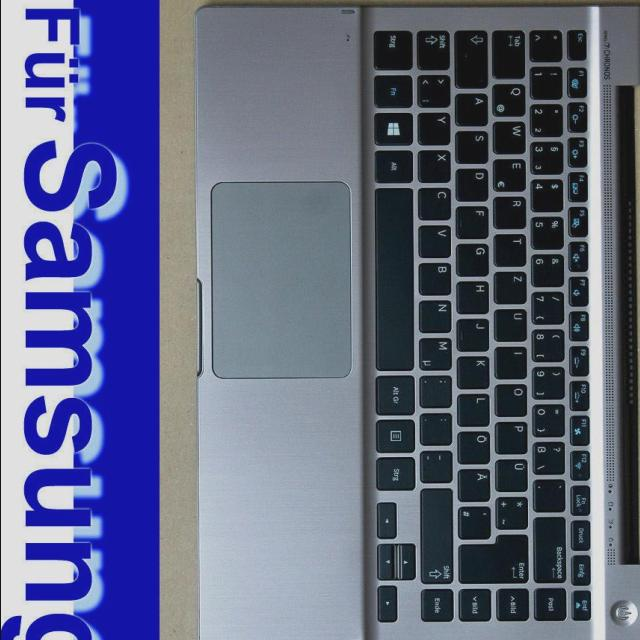0: (534, 401, 568, 436)
1: (532, 64, 565, 98)
2: (532, 102, 565, 136)
3: (533, 139, 566, 173)
4: (533, 177, 566, 210)
5: (533, 214, 565, 248)
6: (532, 251, 566, 285)
7: (533, 289, 566, 323)
8: (533, 326, 567, 360)
9: (533, 363, 567, 398)
a: (457, 91, 490, 125)
accent: (536, 477, 569, 510)
ae: (459, 466, 492, 500)
alt-left: (376, 148, 414, 182)
altgr-right: (378, 372, 418, 414)
b: (420, 260, 453, 294)
c: (420, 185, 453, 219)
caret: (532, 27, 565, 59)
comma: (422, 372, 454, 406)
d: (457, 166, 490, 200)
del: (535, 516, 569, 583)
e: (494, 156, 528, 190)
enter: (459, 533, 531, 583)
f: (457, 203, 491, 237)
g: (457, 241, 491, 274)
h: (458, 279, 492, 313)
hash: (460, 504, 493, 538)
i: (496, 344, 529, 377)
j: (458, 316, 492, 350)
k: (459, 354, 492, 388)
keyboard: (362, 15, 604, 633)
l: (458, 391, 492, 425)
less: (419, 72, 453, 106)
m: (420, 335, 454, 369)
minus: (422, 447, 455, 481)
n: (420, 297, 453, 331)
o: (497, 381, 530, 415)
oe: (458, 429, 492, 463)
p: (497, 419, 530, 453)
plus: (497, 494, 530, 527)
point: (422, 410, 455, 444)
q: (494, 81, 528, 115)
r: (494, 195, 527, 228)
s: (457, 128, 489, 162)
shift-left: (418, 27, 452, 69)
shift-lock: (457, 28, 491, 87)
shift-right: (423, 485, 456, 583)
space: (377, 186, 417, 370)
ss: (535, 438, 568, 473)
strg-left: (375, 26, 415, 68)
strg-right: (378, 454, 418, 489)
t: (494, 232, 528, 266)
tab: (494, 28, 528, 77)
u: (495, 306, 529, 340)
ue: (497, 457, 531, 490)
v: (420, 223, 453, 256)
w: (494, 119, 528, 153)
x: (419, 148, 453, 182)
y: (419, 110, 453, 144)
z: (495, 269, 529, 303)
